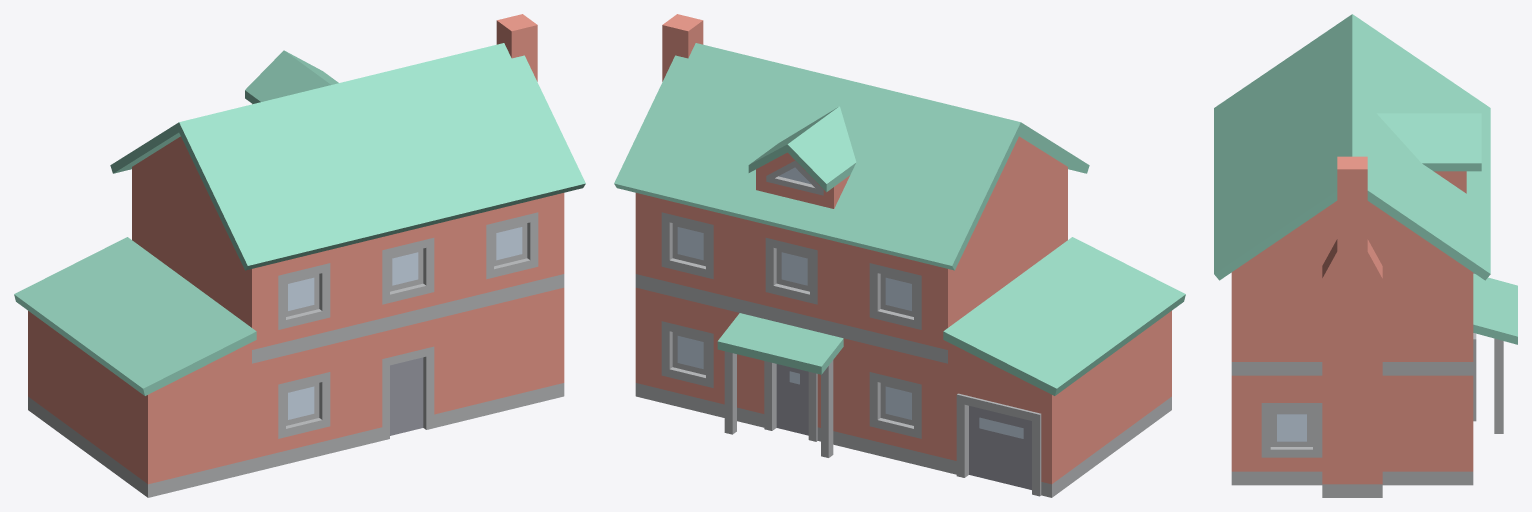
The model's file is house-type08.glb.
3 views of the same model, side by side, from view 1: azimuth 30°, elevation 25°; view 2: azimuth 150°, elevation 25°; view 3: azimuth 270°, elevation 25° (orthographic).
Visible parts, largest first — view 1: house_type08; view 2: house_type08; view 3: house_type08.
Boxes of the visible parts, box(x1,y1,x2,y2) form: house_type08: box(14, 14, 585, 497); house_type08: box(614, 14, 1185, 497); house_type08: box(1214, 14, 1517, 497).
Bounding box in the file's own units: 1.74 × 1.2 × 1.01.
Materials: 1 (1 with a texture image).
